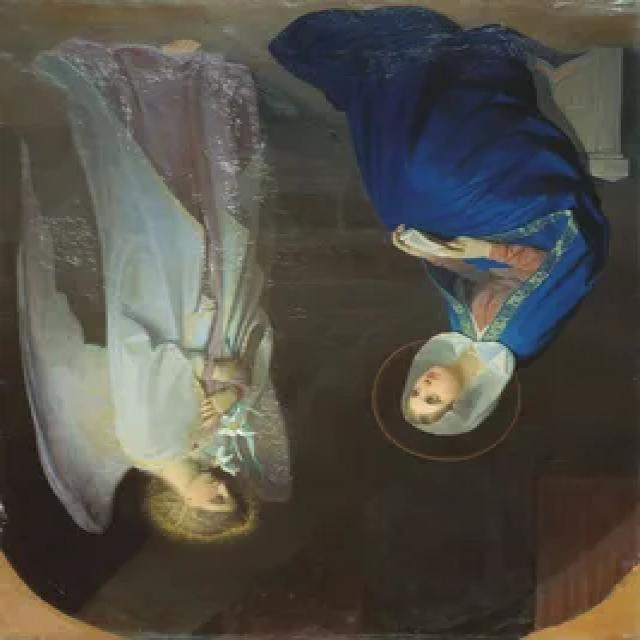mother of god: (338, 25, 614, 453)
